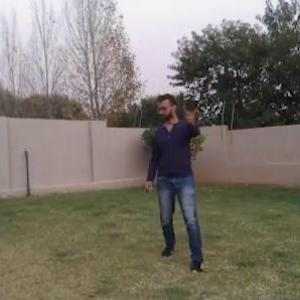takeoff-hand: (176, 94, 206, 128)
